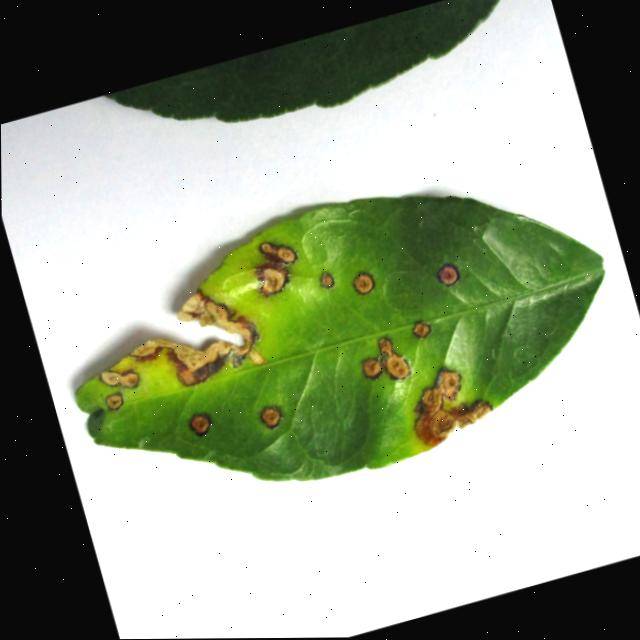antracnose: (74, 195, 602, 479), (414, 367, 491, 445), (129, 337, 249, 384), (181, 292, 251, 340), (254, 241, 295, 295), (361, 336, 409, 378), (99, 369, 137, 386), (436, 262, 458, 285), (188, 413, 209, 435), (259, 405, 280, 427), (352, 271, 373, 293), (104, 391, 121, 408), (411, 320, 429, 336), (100, 370, 117, 384), (319, 271, 333, 287)
